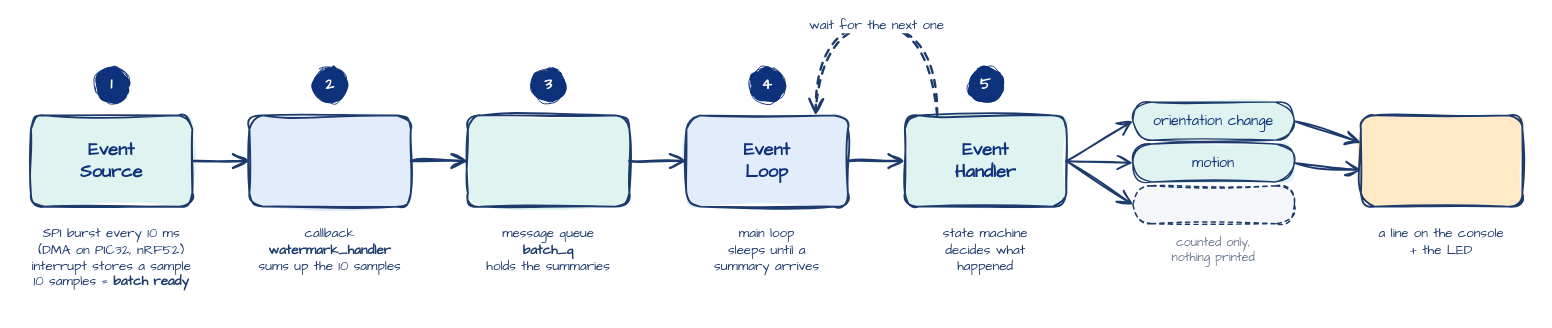
Some shapes in this 1552 by 328 pixel diagram are drawn without their labels. Each missing label, with the centre of its shape:
Event Listener: [329,160]
Event Queue: [548,160]
nothing: [1213,204]
Output: [1441,160]
